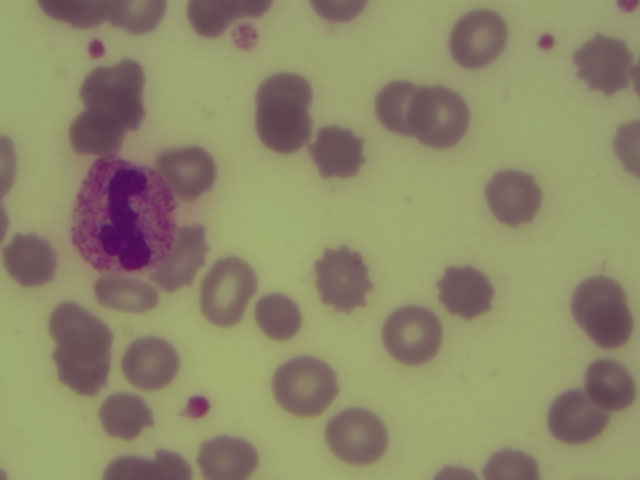Platelets: (229, 23, 256, 43), (185, 396, 208, 417), (88, 43, 101, 57)
RBC: (81, 65, 147, 128), (51, 300, 112, 367), (573, 32, 632, 98), (260, 89, 320, 153), (127, 335, 187, 397), (413, 84, 469, 147), (201, 258, 251, 328), (386, 304, 440, 367), (450, 6, 505, 67), (278, 359, 334, 417), (318, 251, 368, 314), (439, 262, 492, 320), (553, 386, 606, 440), (377, 77, 424, 135), (326, 412, 384, 458), (491, 166, 538, 222), (310, 126, 363, 175), (8, 234, 53, 291), (57, 342, 111, 389), (571, 281, 618, 335), (100, 392, 156, 437), (93, 278, 161, 314), (206, 434, 258, 480), (589, 361, 634, 408), (260, 293, 303, 342), (169, 147, 209, 199), (258, 72, 311, 111), (103, 1, 161, 36), (589, 302, 631, 347), (177, 225, 205, 283), (37, 1, 100, 26), (487, 450, 533, 480), (104, 456, 166, 478), (186, 2, 224, 32), (620, 120, 640, 172), (315, 1, 364, 16)
WBC: (76, 165, 170, 275)
